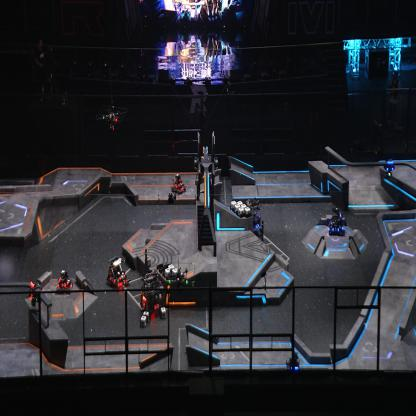car: (140, 273, 164, 317), (106, 254, 130, 290), (244, 198, 264, 235), (327, 206, 345, 238), (284, 350, 302, 378), (56, 268, 74, 295), (171, 173, 186, 196)
